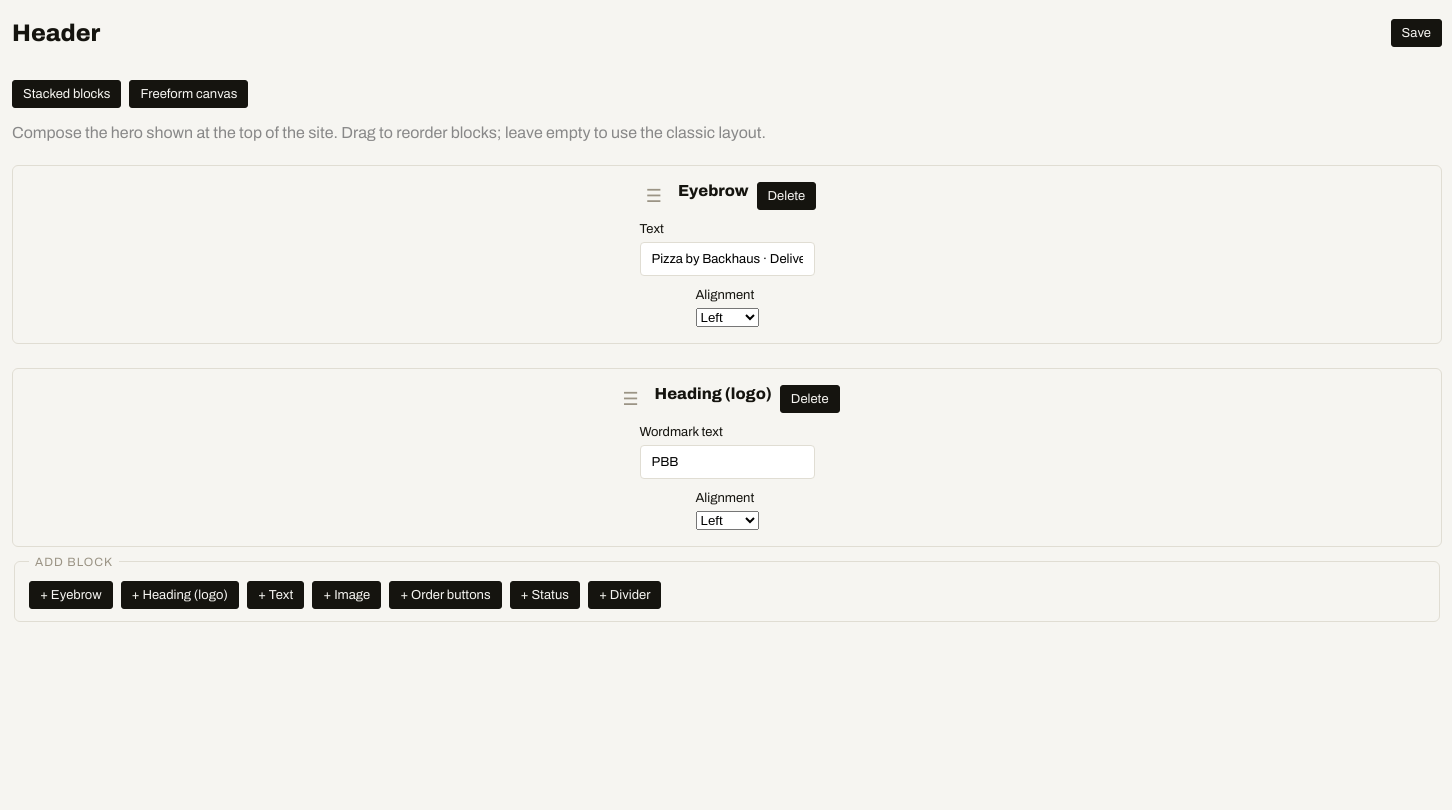
Test: HeaderBuilder › adds a block and the list grows
Click the button "+ Divider".
click(625, 595)  # box [588, 581, 662, 609]
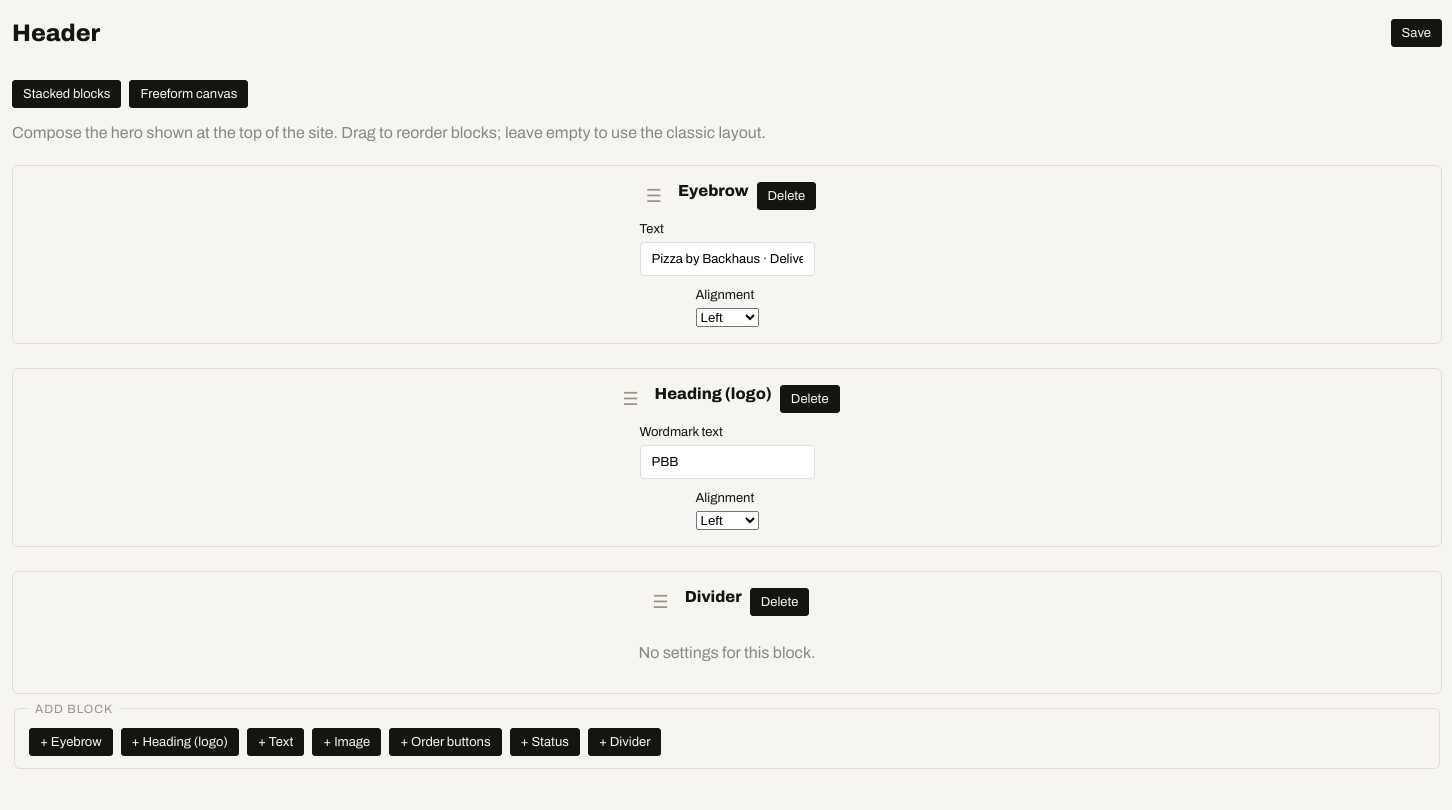
Now the number of list items is 3, box [12, 165, 1442, 344]; [12, 368, 1442, 547]; [12, 571, 1442, 694]
